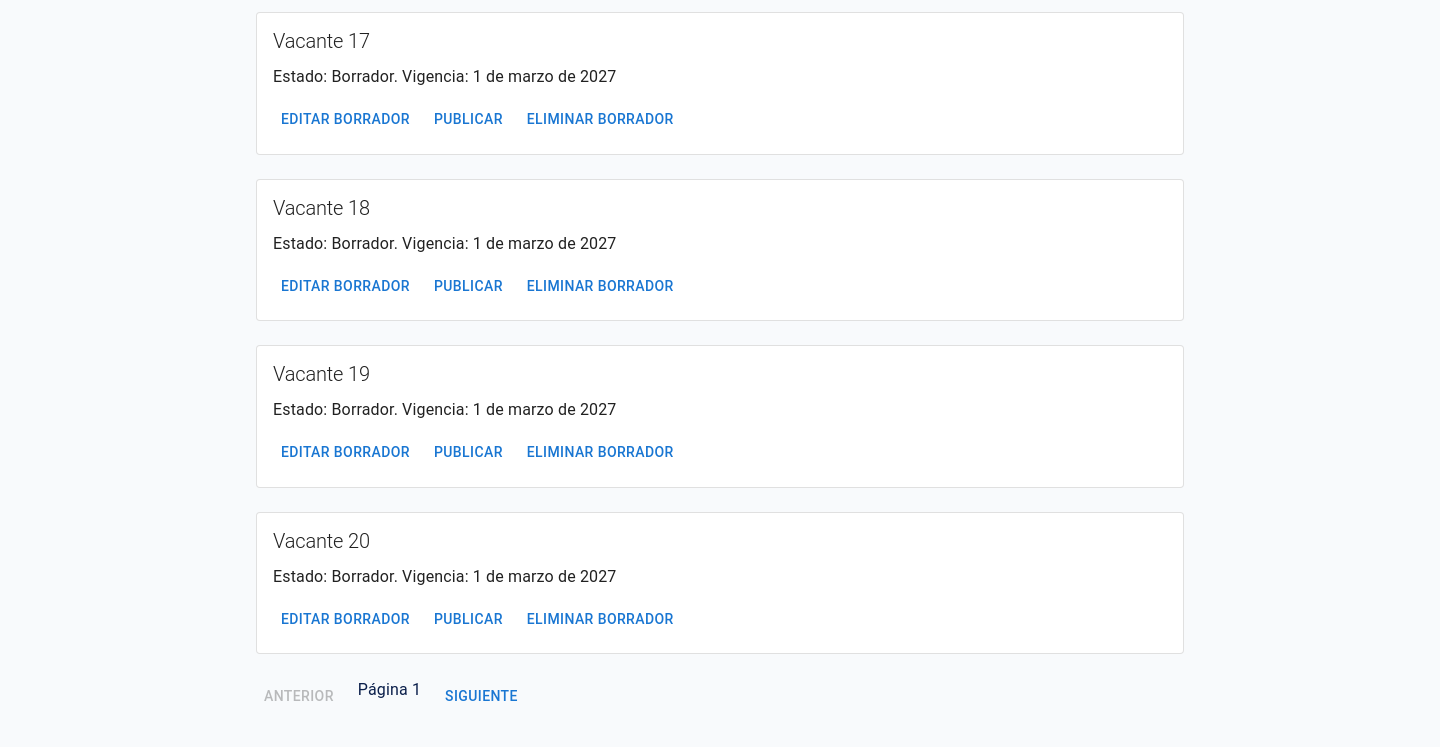
Test case: MisVacantes › al eliminar el único borrador de la página 2 se muestran las 20 vacantes de la página 1
(page scrolled)
Click the button "Siguiente" at (481, 696), box [437,678,526,715]
(page scrolled)
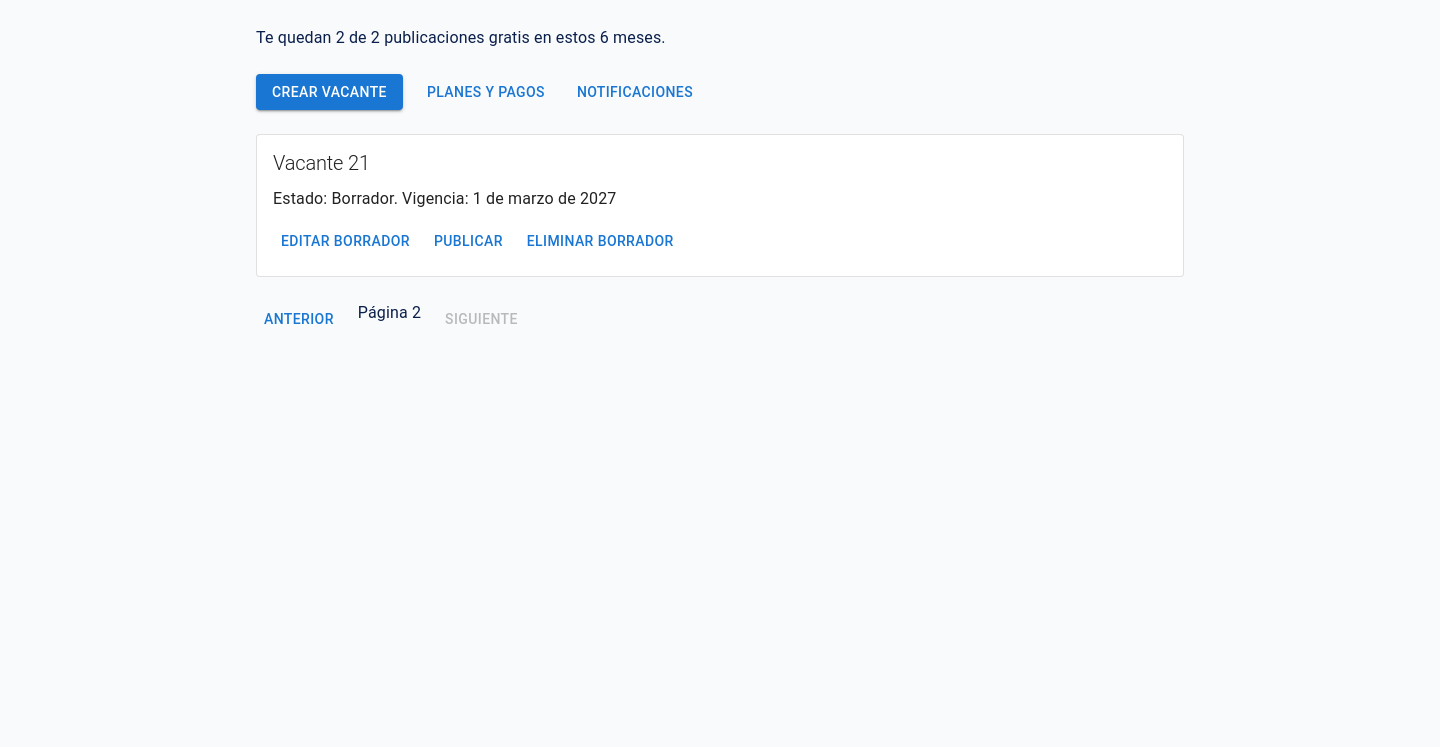
Click the button "Eliminar borrador" at (600, 241), box [519,223,682,260]
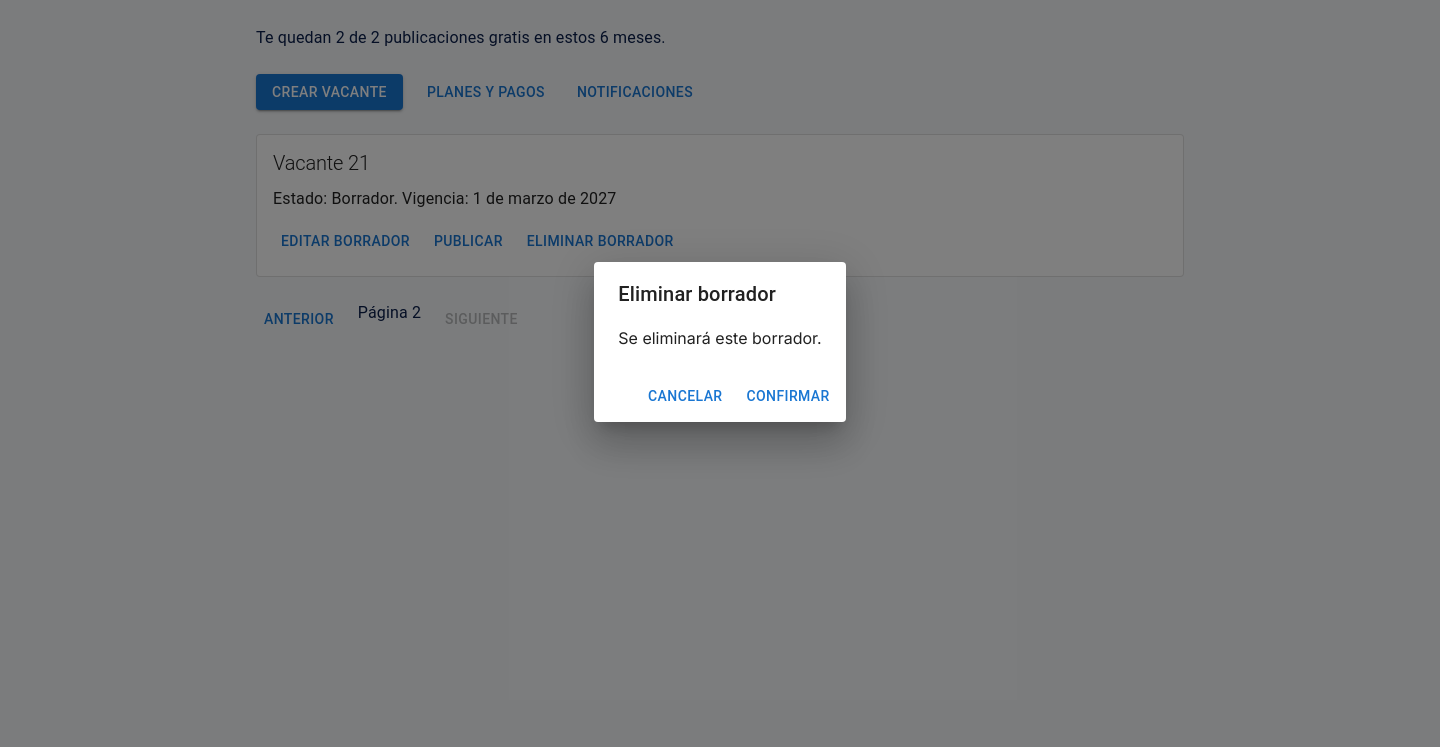
Click the button "Confirmar" at (788, 396), box [738,378,838,414]
(page scrolled)
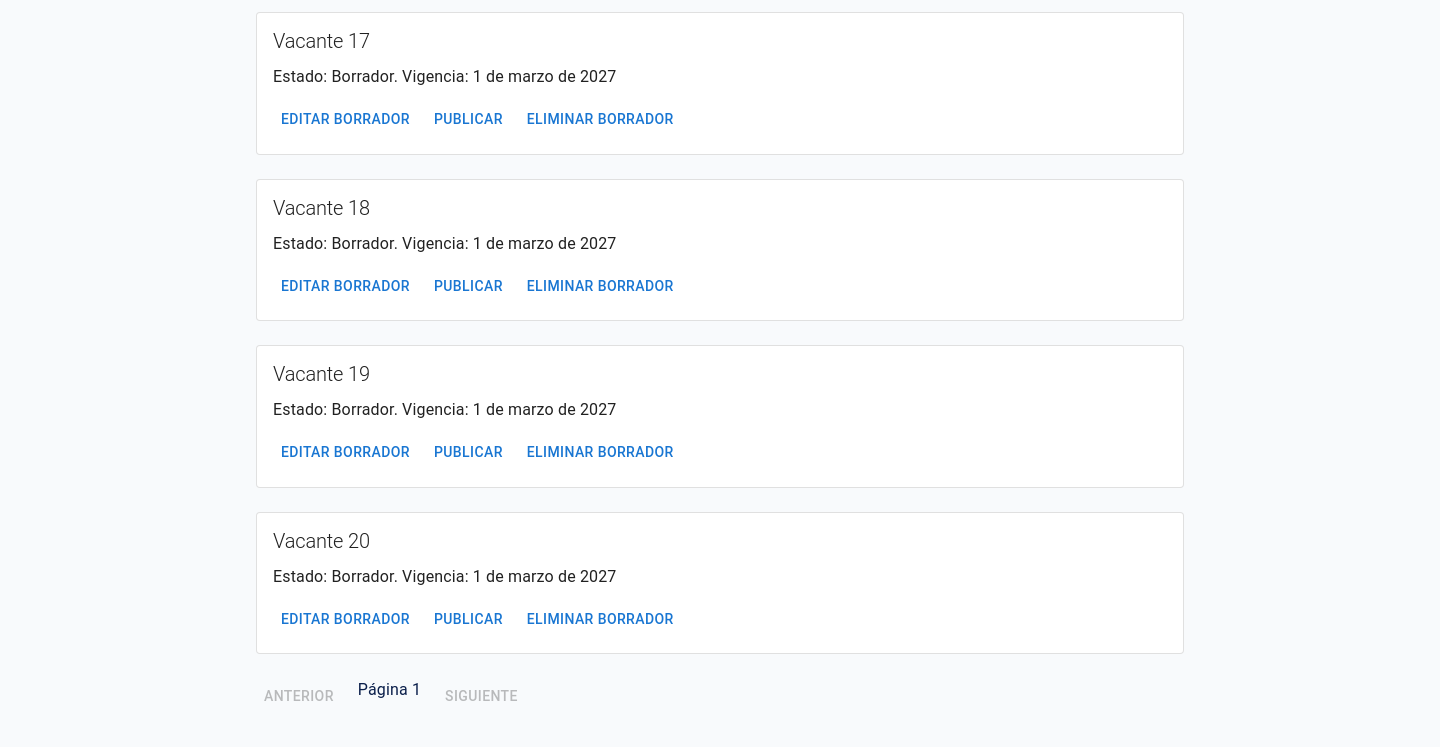
Check: the dialog is gone
Check: the heading "Vacante 20" is shown, box [273,529,370,553]
Check: the text "Página 1" is shown, box [358,680,421,699]
